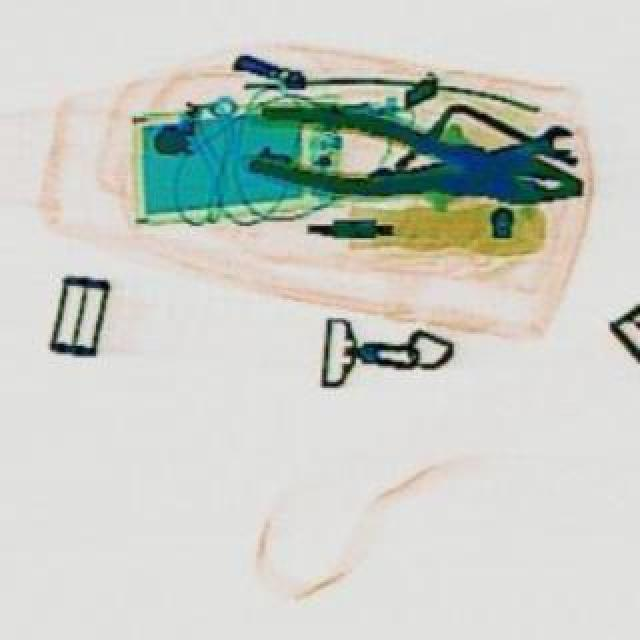wrench: (244, 90, 588, 232)
